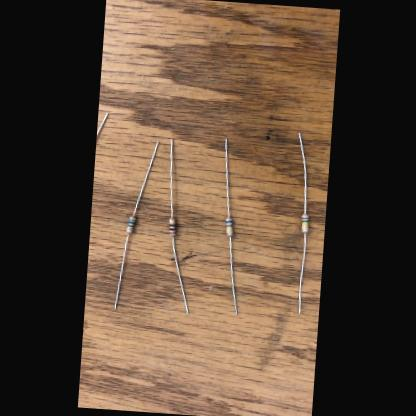resistor: (224, 216, 234, 236), (125, 216, 134, 234), (166, 218, 174, 236), (300, 214, 308, 232)
wire: (166, 236, 193, 312), (131, 140, 157, 216), (291, 132, 310, 213), (223, 235, 242, 314), (218, 138, 233, 216), (113, 232, 128, 309), (164, 138, 178, 217), (296, 233, 305, 312), (96, 111, 107, 136)
